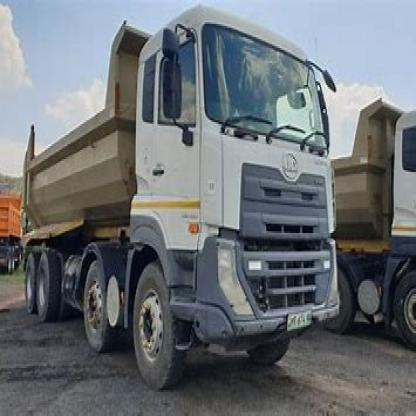dump_truck: (13, 6, 340, 388)
